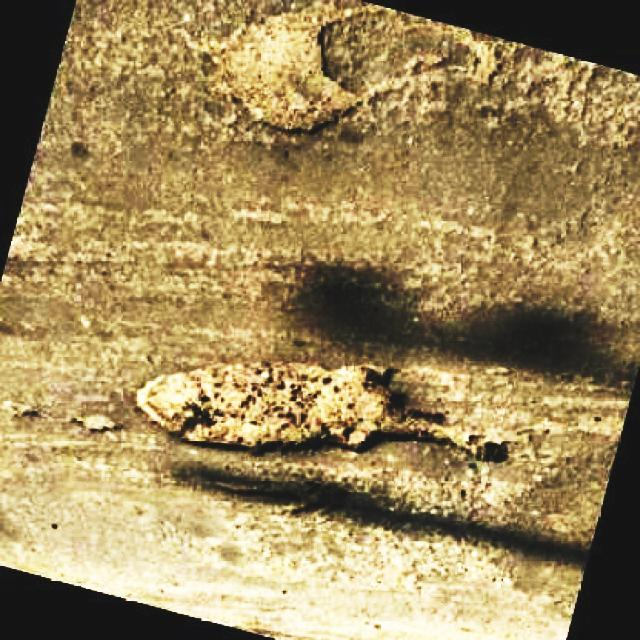pothole: (131, 344, 511, 468), (202, 0, 384, 146)
